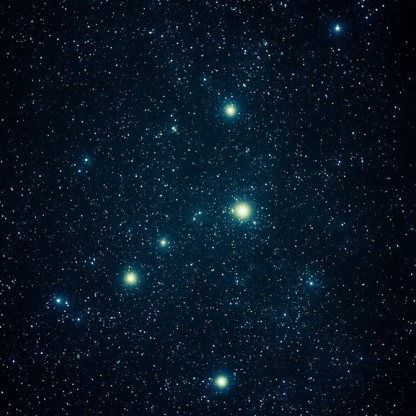Cassiopeia: (117, 227, 170, 296), (222, 189, 263, 229), (202, 358, 240, 400), (214, 85, 242, 124), (325, 17, 355, 44)
